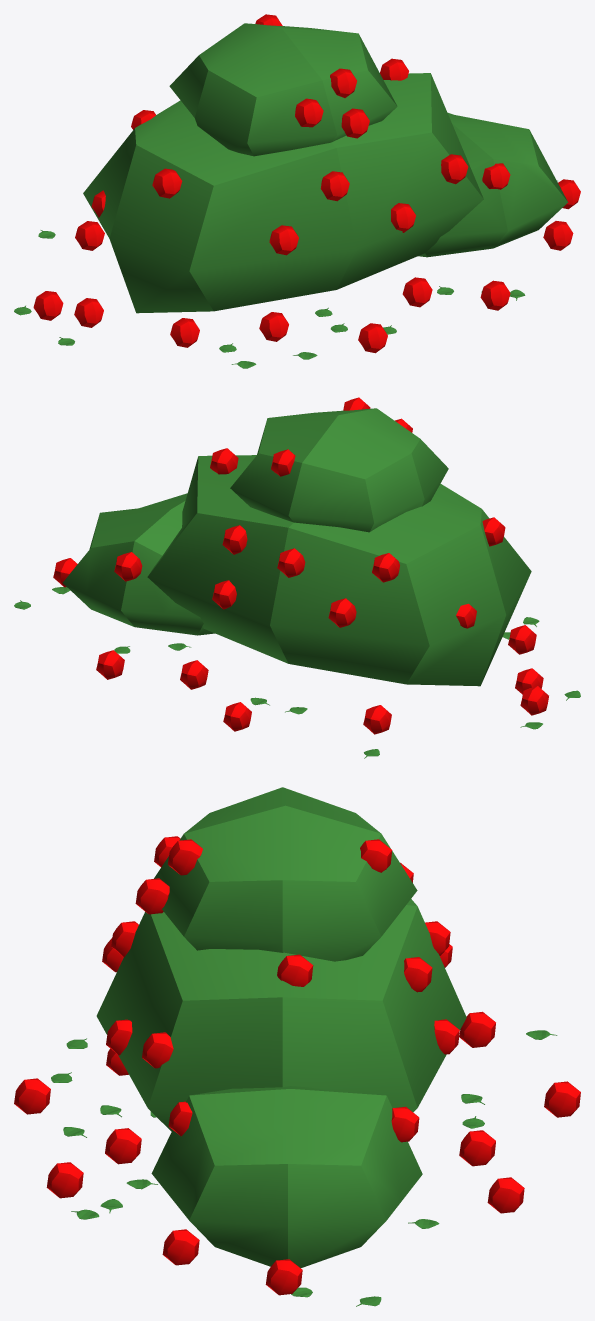
File: Arbusto_Decorado_2.fbx
3 renders of one model, top to bottom at view 1: azimuth 30°, elevation 25°; view 2: azimuth 150°, elevation 25°; view 3: azimuth 270°, elevation 25°, orthographic. The views are drawn at different scales.
Visible parts, largest first — view 1: arbusto1, arbusto2, arbusto3, pCube56, pCube67, pCube55, pCube57, pCube60, pCube58, pCube65, pCube66, pCube1 (+10 smaller); view 2: arbusto1, arbusto2, arbusto3, pCube58, pCube62, pCube65, pCube66, pCube64, pCube63, pCube14, pCube15, pCube13 (+7 smaller); view 3: arbusto1, arbusto3, arbusto2, pCube57, pCube62, pCube63, pCube60, pCube61, pCube55, pCube64, pCube56, pCube65 (+10 smaller).
Part boxes in pixels (bbox=[...]): arbusto1: bbox=[83, 73, 483, 313]; arbusto2: bbox=[169, 23, 397, 156]; arbusto3: bbox=[418, 113, 568, 257]; pCube56: bbox=[402, 277, 432, 307]; pCube67: bbox=[74, 298, 103, 327]; pCube55: bbox=[480, 280, 510, 310]; pCube57: bbox=[358, 323, 387, 353]; pCube60: bbox=[543, 221, 573, 250]; pCube58: bbox=[170, 318, 199, 347]; pCube65: bbox=[75, 221, 104, 250]; pCube66: bbox=[33, 291, 63, 320]; pCube1: bbox=[152, 168, 182, 198]; arbusto1: bbox=[147, 455, 531, 686]; arbusto2: bbox=[230, 408, 448, 532]; arbusto3: bbox=[63, 493, 214, 635]; pCube58: bbox=[508, 625, 536, 654]; pCube62: bbox=[96, 650, 124, 679]; pCube65: bbox=[363, 705, 391, 734]; pCube66: bbox=[520, 686, 548, 715]; pCube64: bbox=[180, 660, 208, 689]; pCube63: bbox=[223, 702, 251, 731]; pCube14: bbox=[372, 553, 399, 582]; pCube15: bbox=[328, 598, 356, 627]; pCube13: bbox=[277, 548, 305, 577]; arbusto1: bbox=[96, 899, 466, 1131]; arbusto3: bbox=[151, 1086, 422, 1267]; arbusto2: bbox=[154, 787, 417, 961]; pCube57: bbox=[14, 1078, 50, 1114]; pCube62: bbox=[487, 1177, 524, 1213]; pCube63: bbox=[544, 1081, 580, 1117]; pCube60: bbox=[162, 1229, 199, 1265]; pCube61: bbox=[265, 1259, 302, 1295]; pCube55: bbox=[46, 1162, 83, 1198]; pCube64: bbox=[459, 1130, 495, 1166]; pCube56: bbox=[105, 1128, 141, 1164]; pCube65: bbox=[459, 1011, 495, 1047].
Size of the model in its own units: 10.64 by 4.66 by 7.59.
